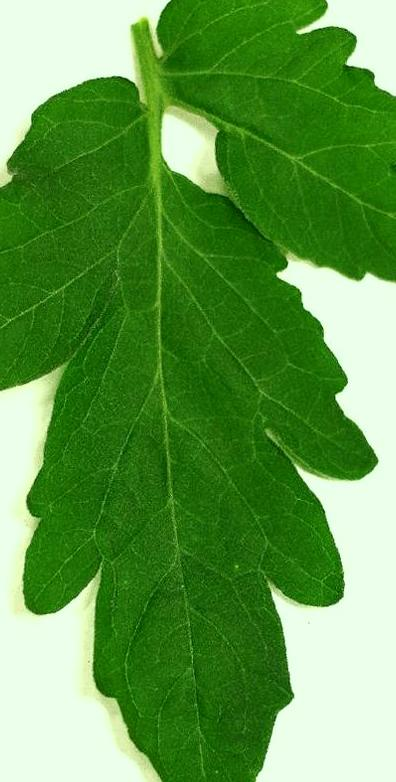Tomato leaf: (0, 69, 339, 782), (161, 0, 396, 300)
